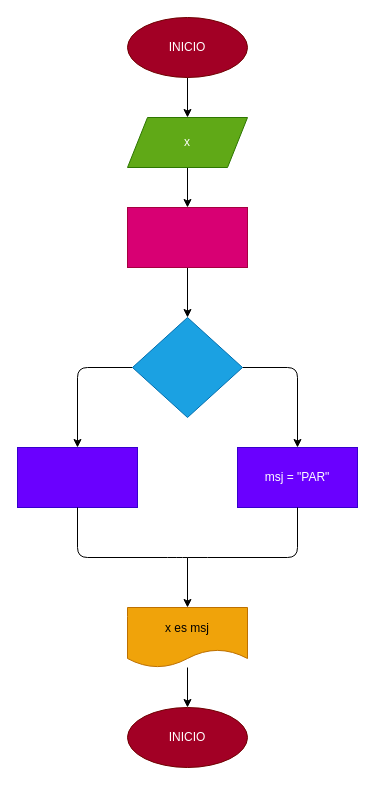
The diagram is 375 pixels wide and 785 high, and some of its shapes have lost their labels. The shapes that lost their labels are listed below. From the top down, each one's centre as x and y in pixels, then its label:
[187,237]: r = x%2
[187,367]: r == 0
[77,477]: msj = "IMPAR"
